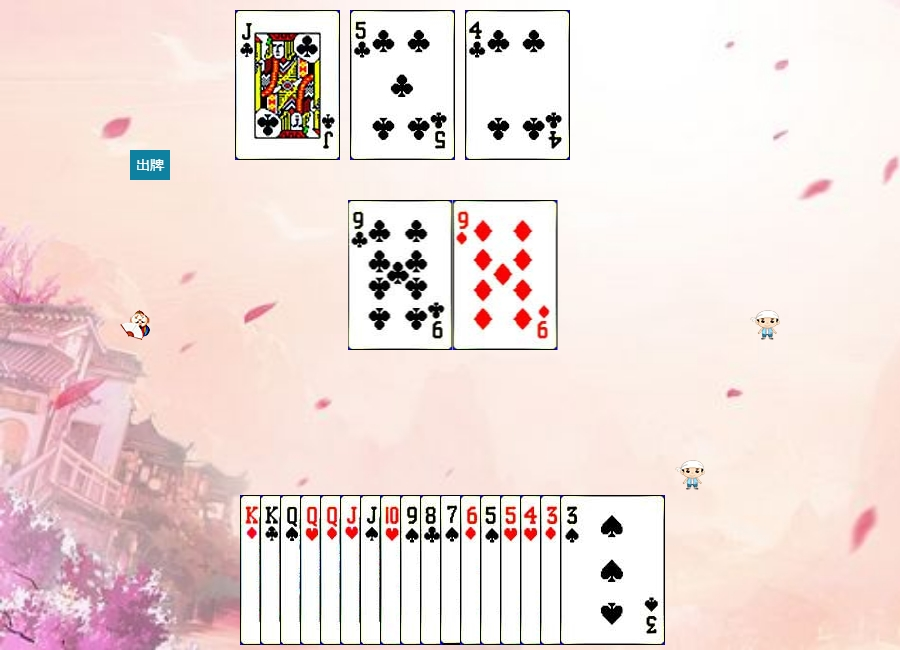10~3: (380, 495, 485, 645)
11~2: (235, 10, 340, 160)
11~3: (340, 495, 445, 645)
11~4: (360, 495, 465, 645)
12~1: (320, 495, 425, 645)
12~3: (300, 495, 405, 645)
12~4: (280, 495, 385, 645)
13~1: (240, 495, 345, 645)
13~2: (260, 495, 365, 645)
3~1: (540, 495, 645, 645)
3~4: (560, 495, 665, 645)
4~2: (465, 10, 570, 160)
4~3: (520, 495, 625, 645)
5~2: (350, 10, 455, 160)
5~3: (500, 495, 605, 645)
5~4: (480, 495, 585, 645)
6~1: (460, 495, 565, 645)
7~4: (440, 495, 545, 645)
8~2: (420, 495, 525, 645)
9~1: (453, 200, 558, 350)
9~2: (348, 200, 453, 350)
9~4: (400, 495, 505, 645)
